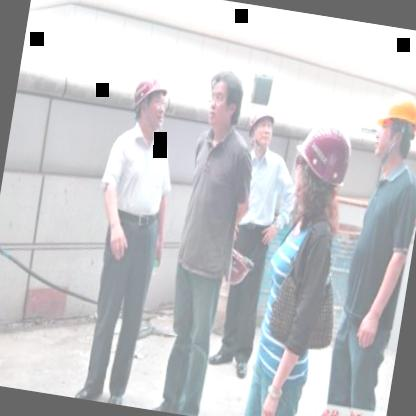head: (200, 63, 246, 138)
helmet: (286, 115, 358, 224), (369, 83, 416, 170), (128, 70, 170, 138), (246, 104, 278, 156)
